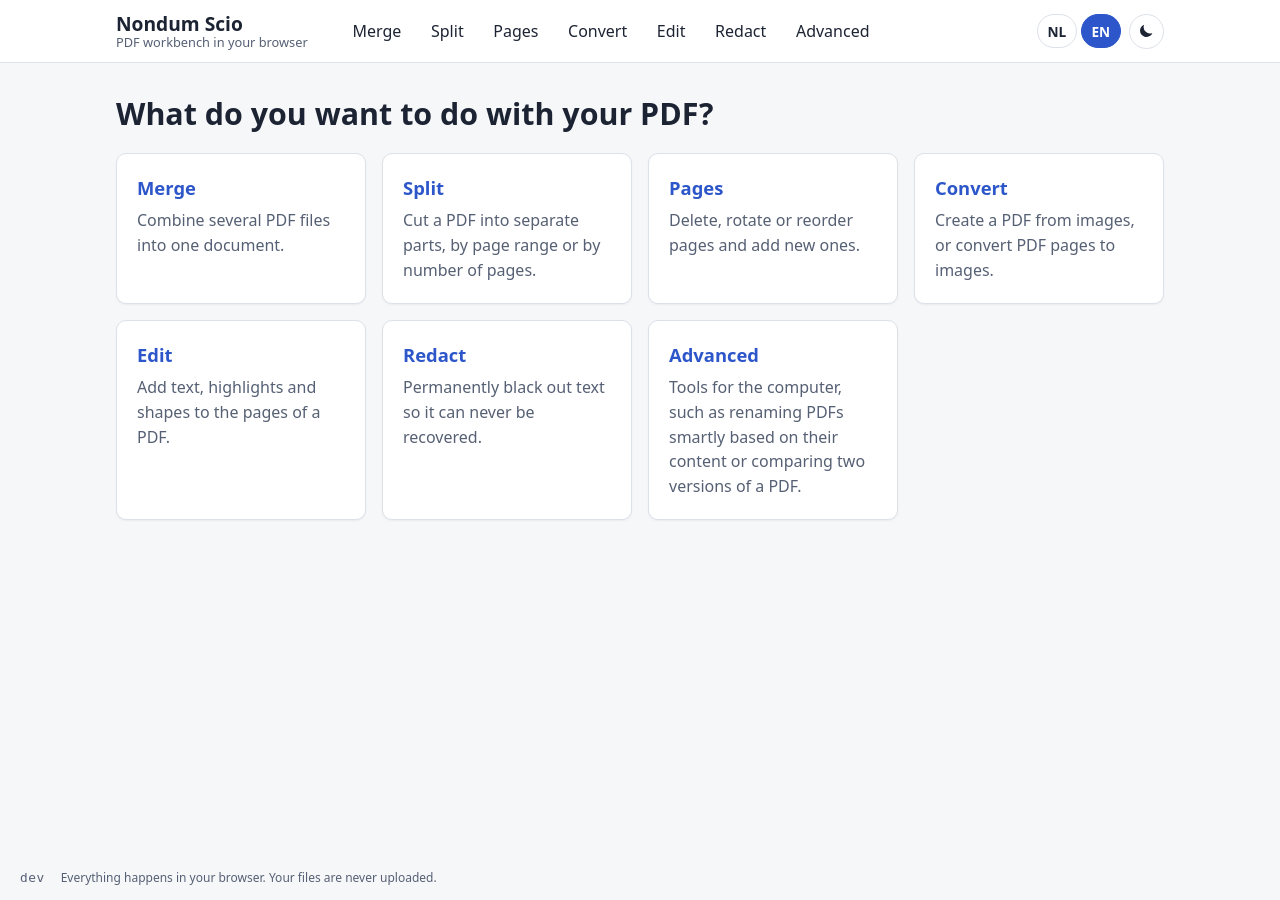
Test: taalkeuze › kan terug naar Nederlands
Click the button with aria-label "Nederlands".
click(1057, 31)  # box left=1037, top=14, right=1077, bottom=48
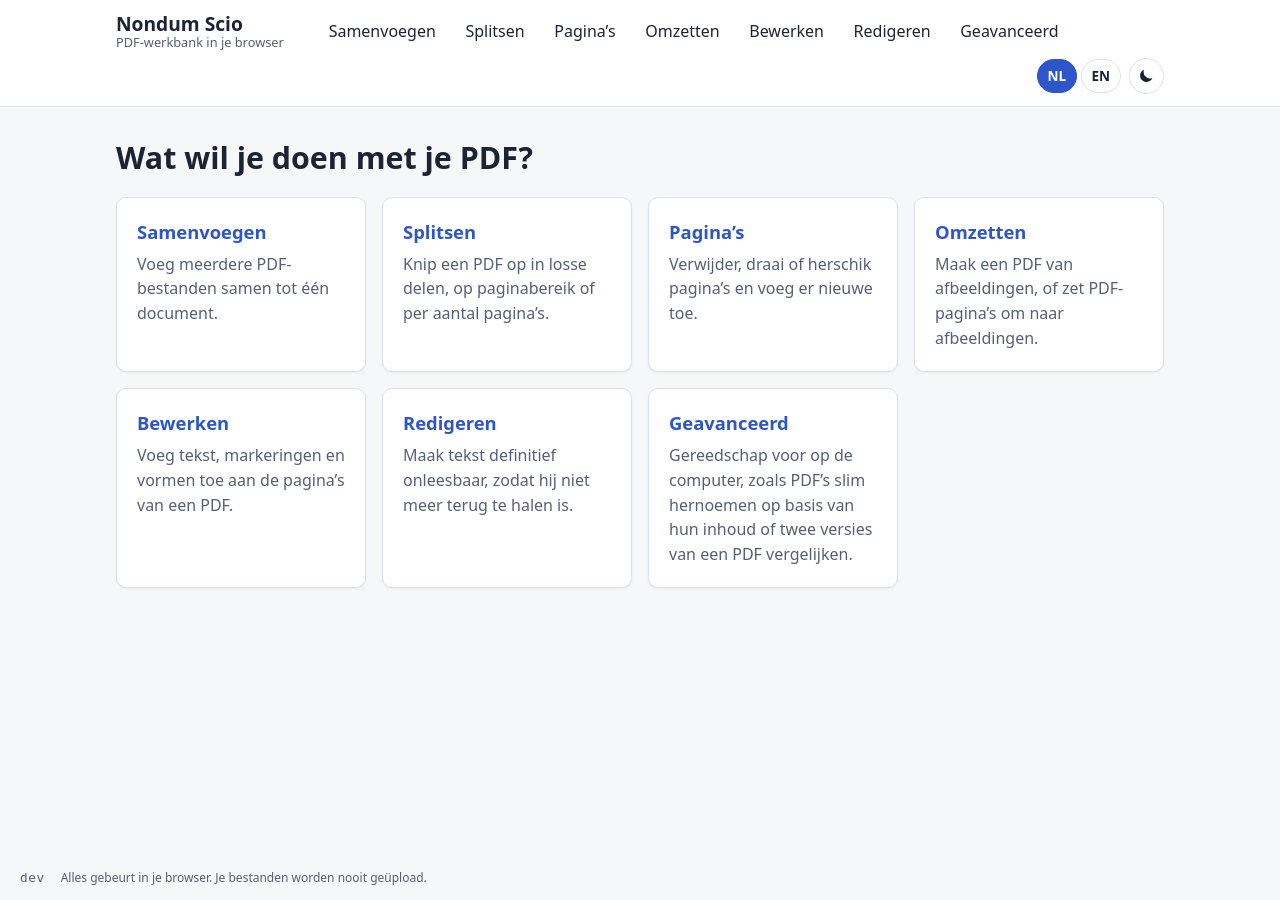
Expected: the heading "Wat wil je doen met je PDF?" is shown, left=116, top=137, right=533, bottom=178
